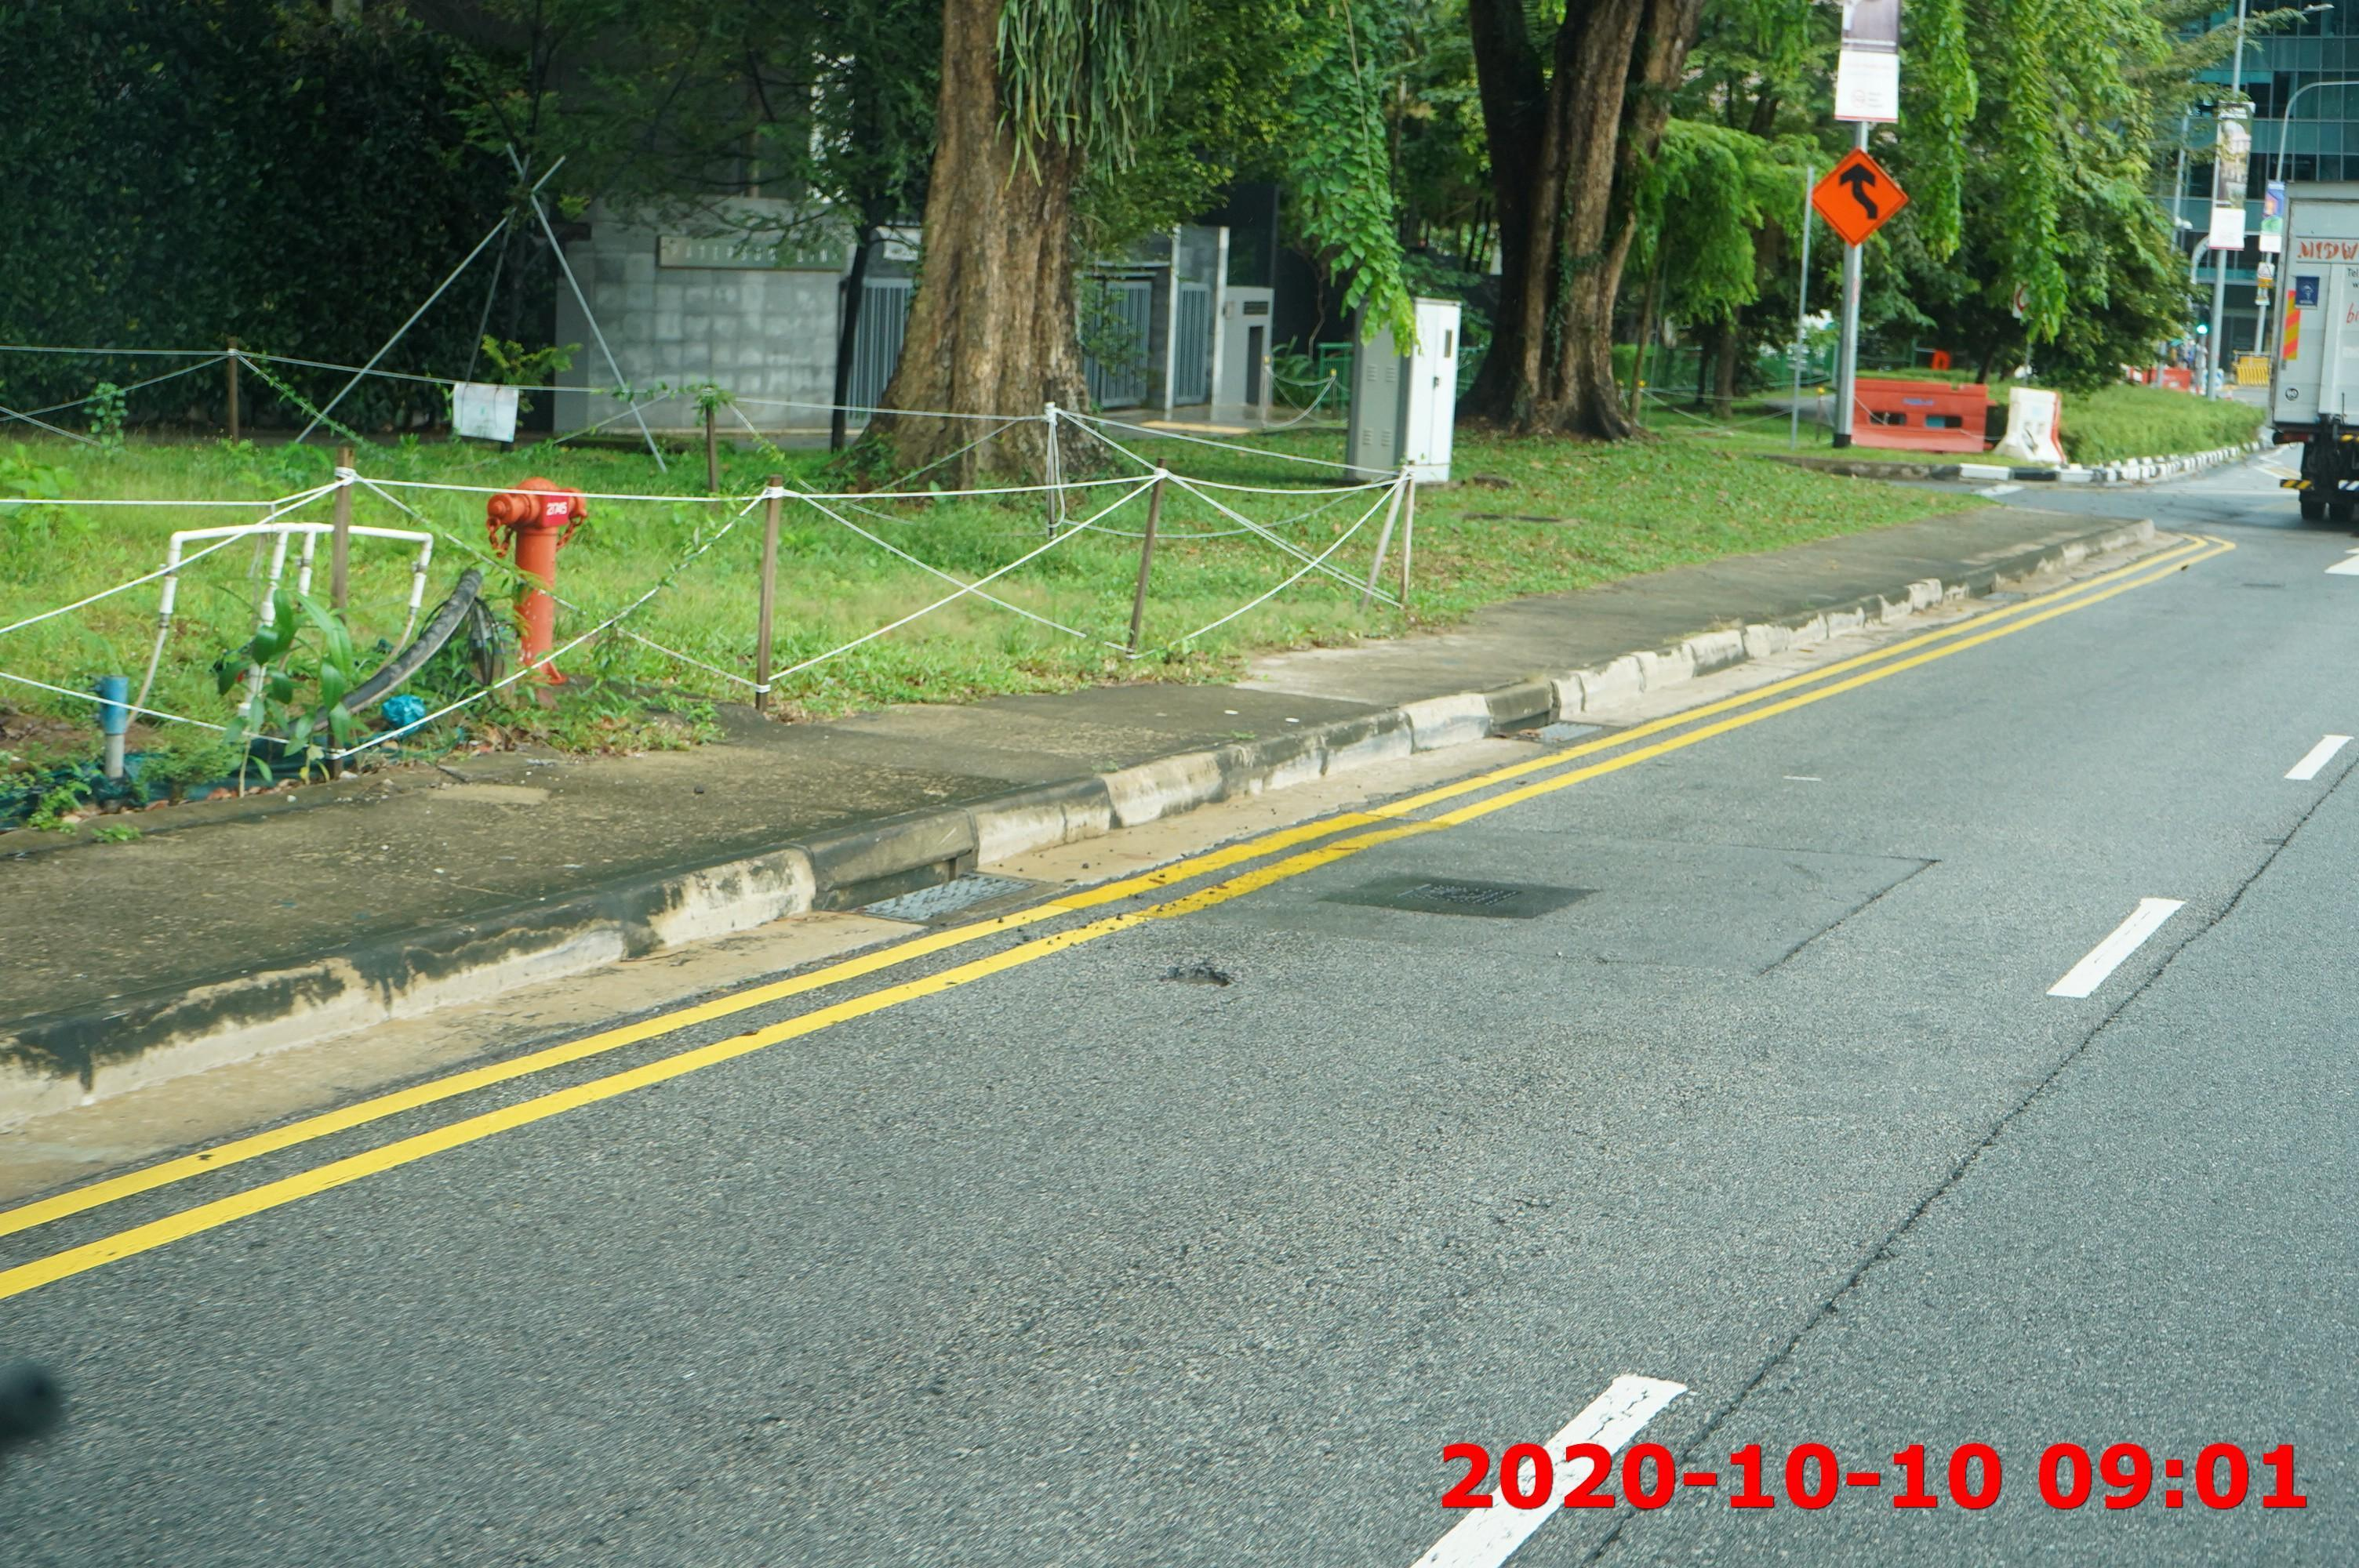peeling off premix: (1143, 950, 1260, 996)
